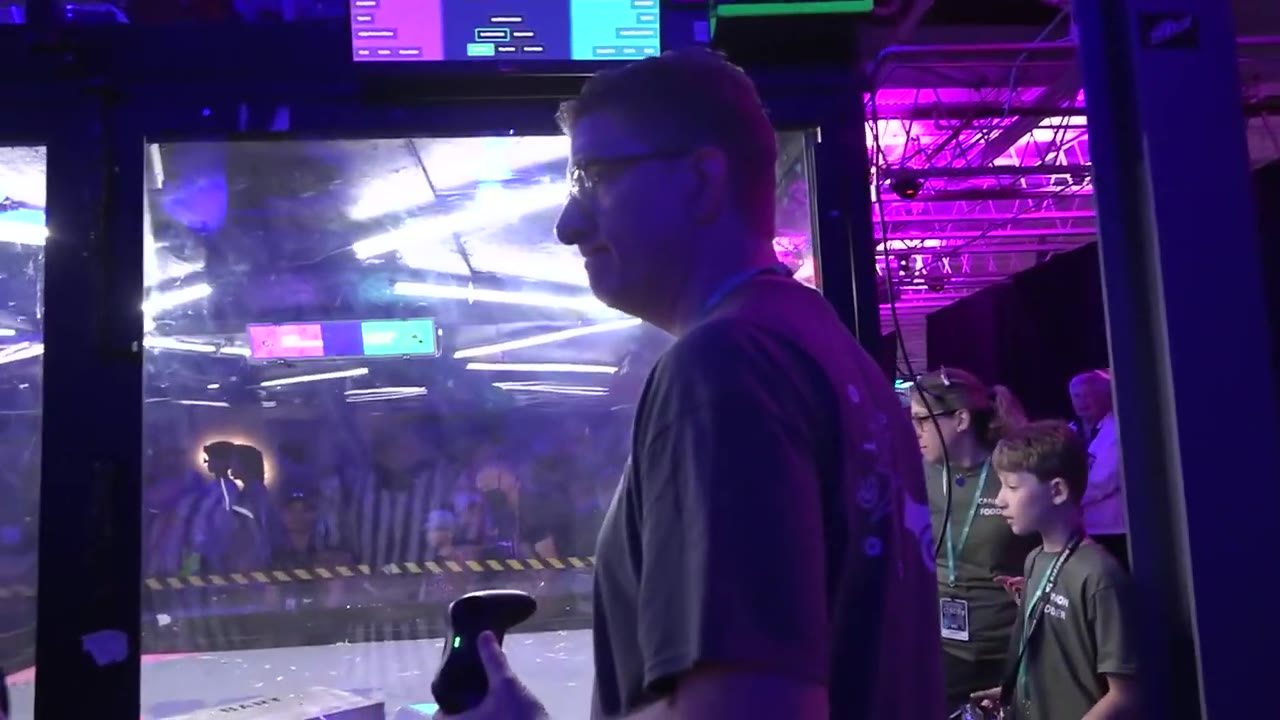housebot: (159, 685, 390, 719)
